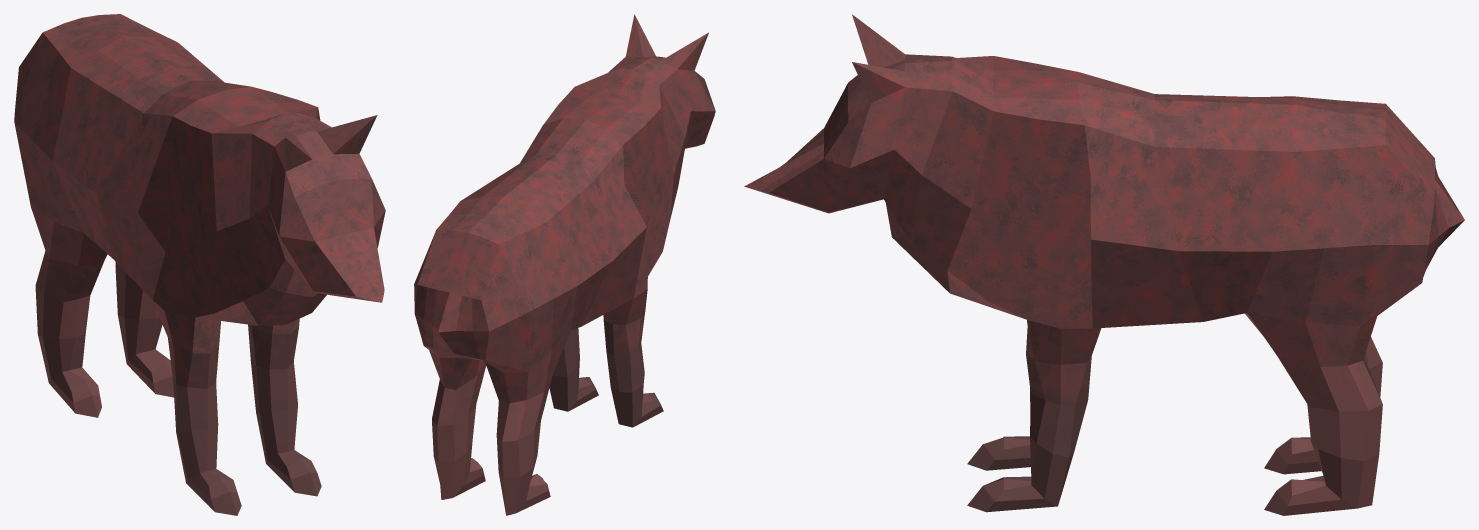
Rendered from piesblend_000040.obj.
The picture shows the model from 3 angles, left to right: view 1: azimuth 30°, elevation 25°; view 2: azimuth 150°, elevation 25°; view 3: azimuth 270°, elevation 25°; orthographic projection. The views are drawn at different scales.
Parts seen in each view (by area): view 1: Cube; view 2: Cube; view 3: Cube.
Boxes of the visible parts, bbox=[...] form: Cube: bbox=[14, 14, 385, 515]; Cube: bbox=[414, 14, 715, 515]; Cube: bbox=[744, 14, 1464, 515].
Size of the model in its own units: 2.56 by 6.35 by 9.19.
1 material, 1 textured.
